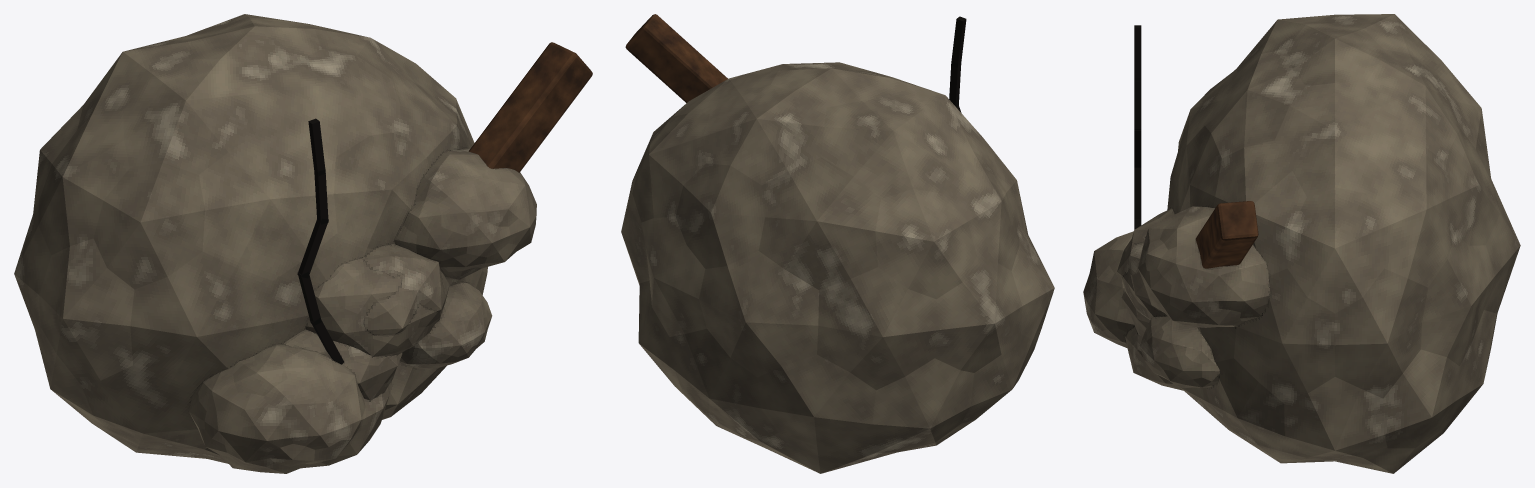
The model's file is vault_wall_mine.glb.
3 renders of one model, left to right at view 1: azimuth 30°, elevation 25°; view 2: azimuth 150°, elevation 25°; view 3: azimuth 270°, elevation 25°, orthographic. The views are drawn at different scales.
Parts seen in each view (by area): view 1: vault_wall_mine; view 2: vault_wall_mine; view 3: vault_wall_mine.
Boxes of the visible parts, bbox=[...] form: vault_wall_mine: bbox=[14, 14, 592, 473]; vault_wall_mine: bbox=[621, 14, 1054, 473]; vault_wall_mine: bbox=[1083, 14, 1520, 473].
Size of the model in its own units: 2.31 by 1.92 by 1.82.
3 materials, 3 textured.
